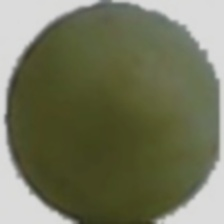grapes: (32, 32, 220, 169)
